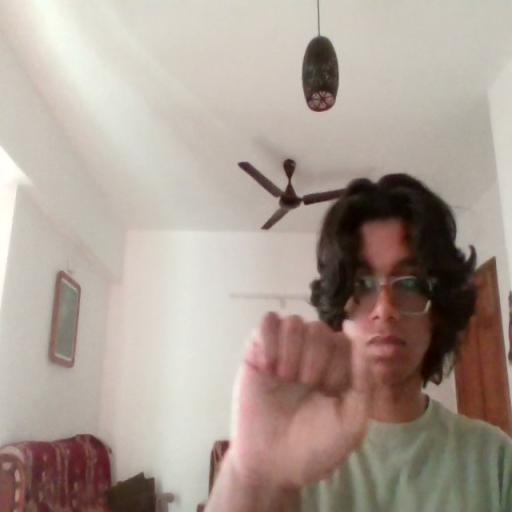Rock: (228, 301, 381, 490)
